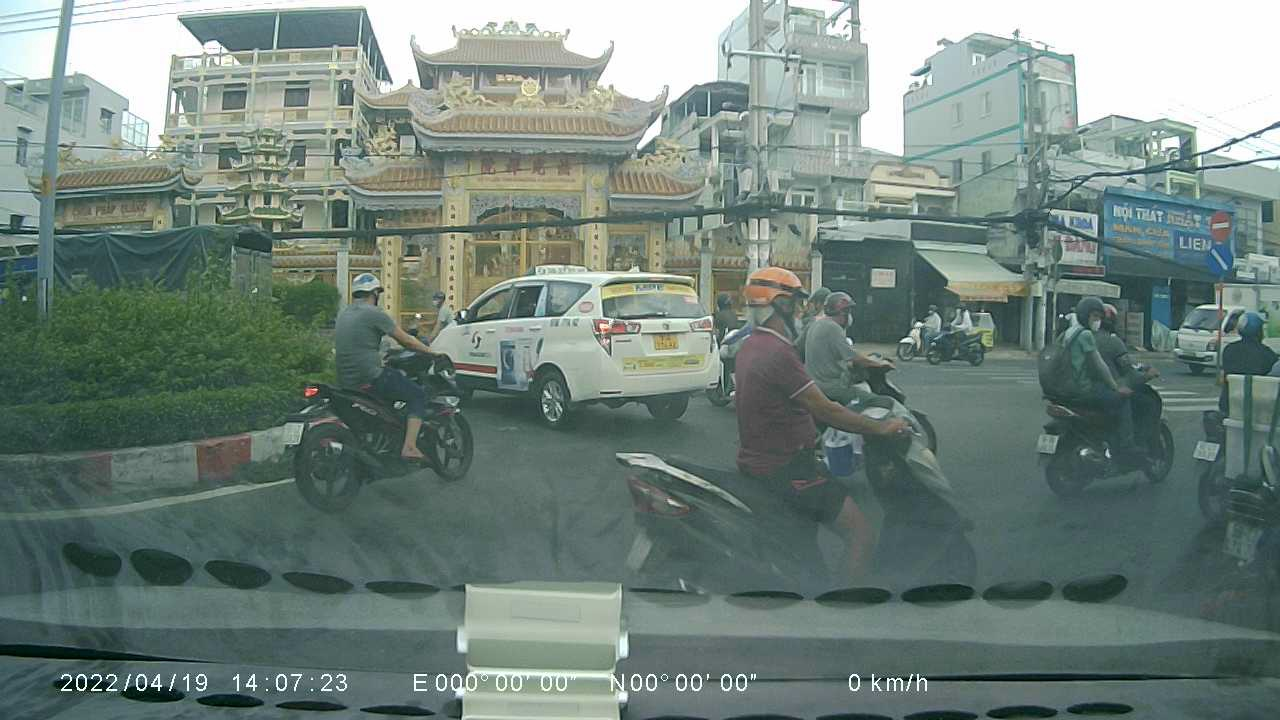Cam di nguoc chieu: (1202, 208, 1232, 241)
Huong di phai re phai: (1204, 242, 1236, 279)
